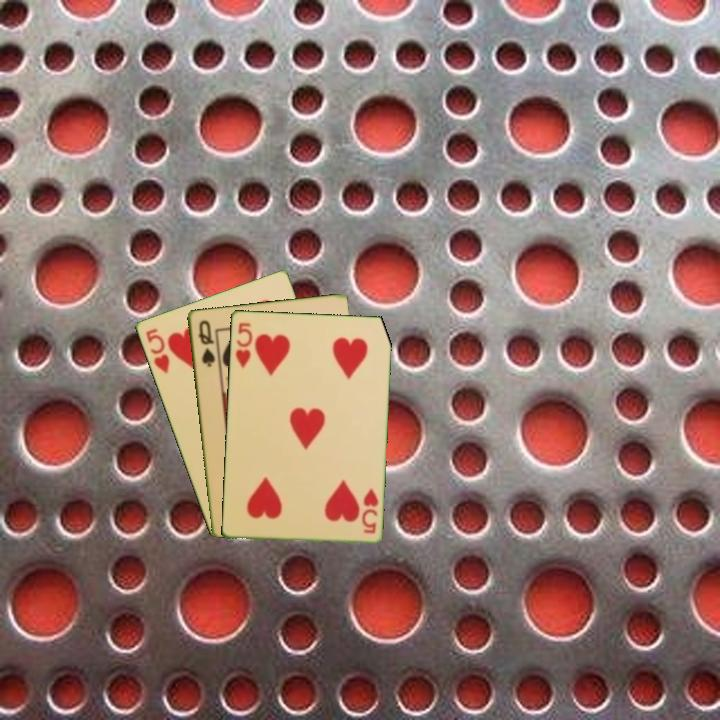5h: (142, 324, 172, 376), (232, 319, 255, 371), (358, 484, 381, 536)
Qs: (194, 316, 218, 369)
